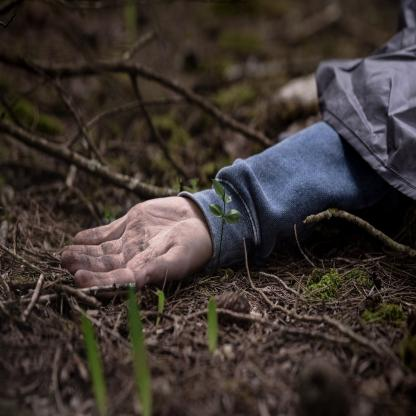hand: (55, 91, 314, 313)
